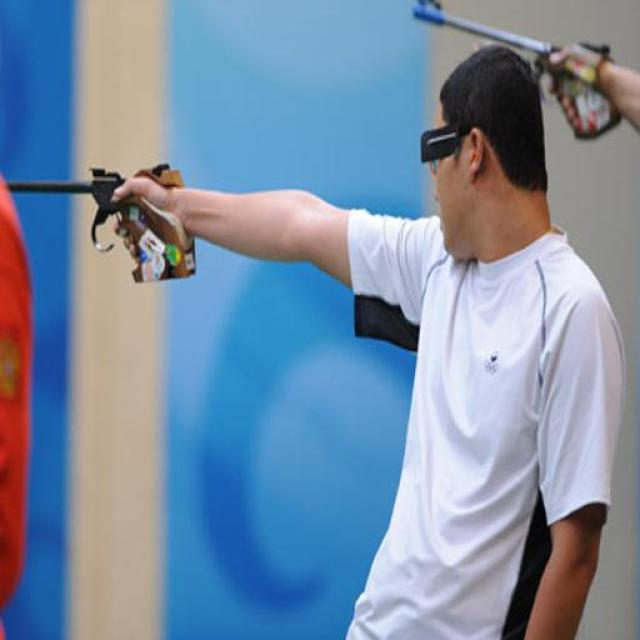pistol: (405, 1, 621, 136), (1, 164, 197, 280)
